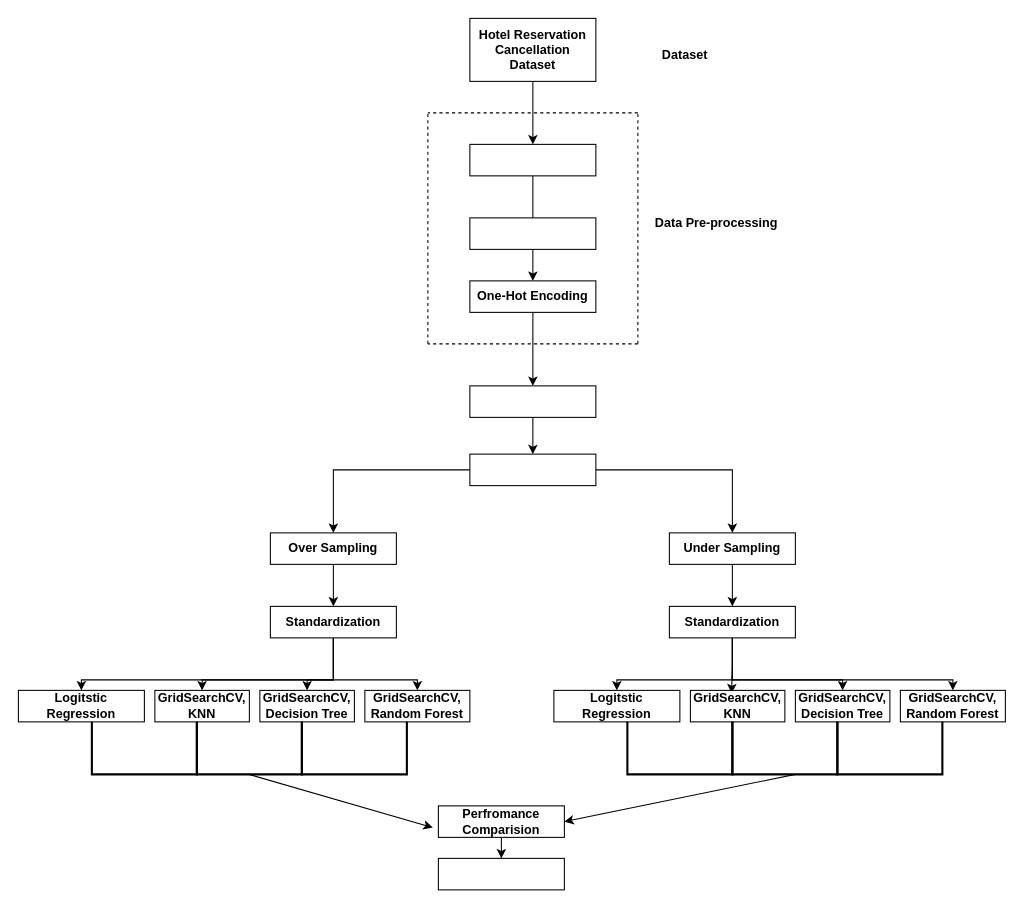
The diagram is 1024 pixels wide and 908 high, and some of its shapes have lost their labels. The centre of each missing label's shape, as x and y in pixels:
"Best Model" belongs at (500,873).
"Data Seperation" belongs at (532,469).
"Data Visualization" belongs at (532,401).
"Missing Values" belongs at (532,159).
"Remove Unwanted Columns" belongs at (532,233).
